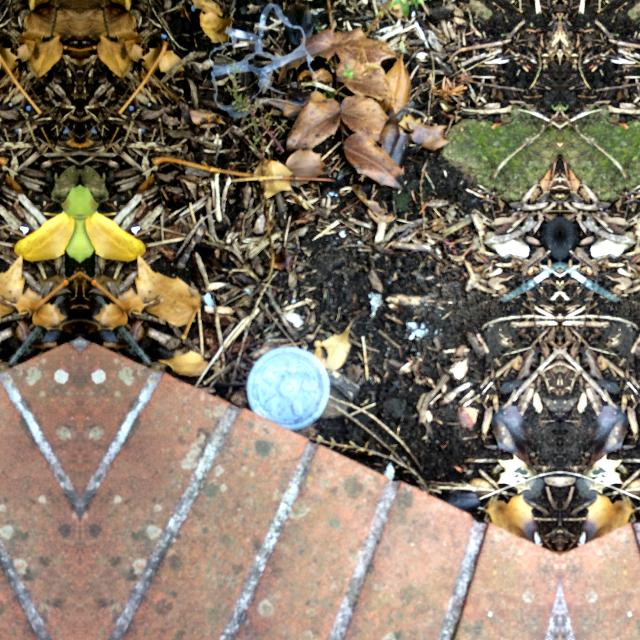Plastic: (239, 342, 337, 430)
